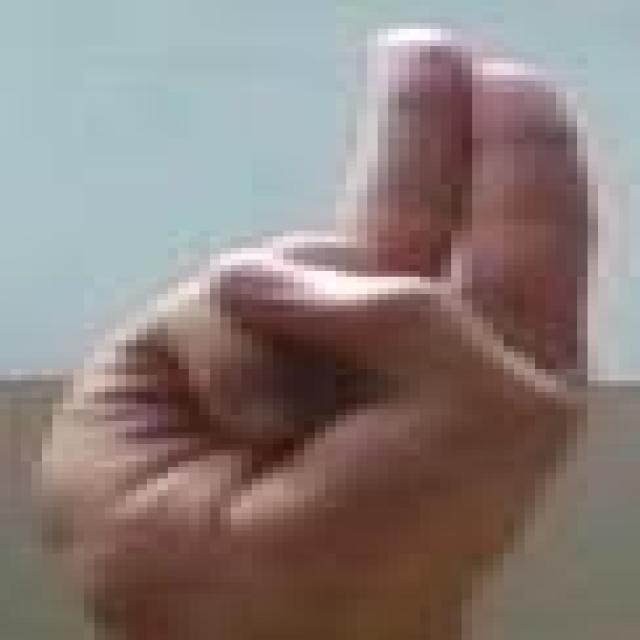U: (36, 5, 623, 629)
